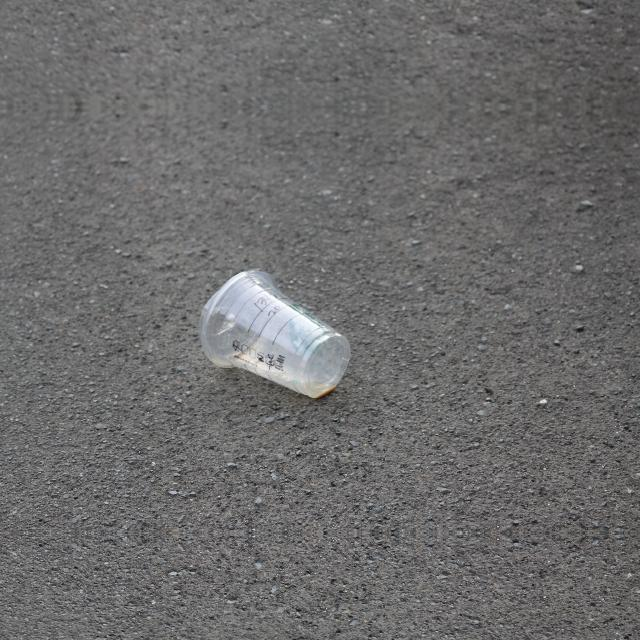Plastic: (198, 268, 352, 400)
